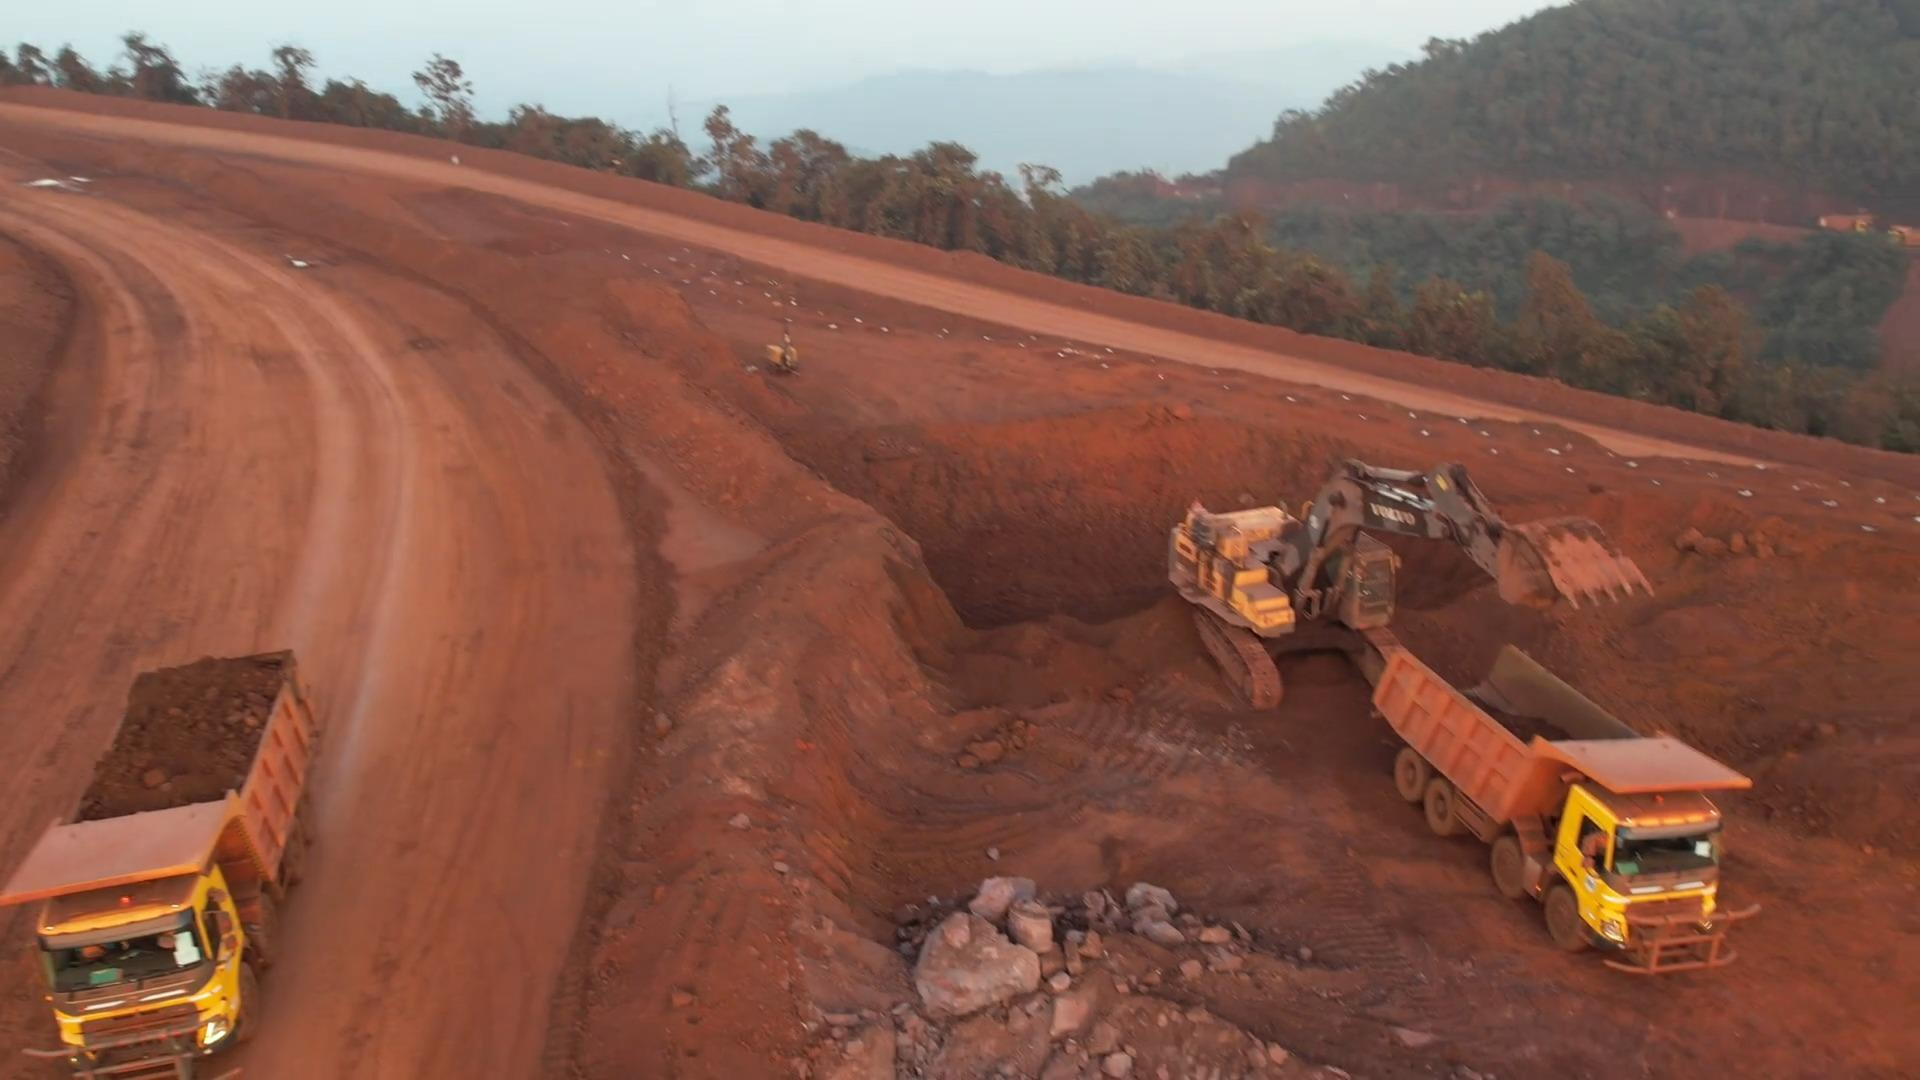excavator: (1176, 462, 1606, 644)
